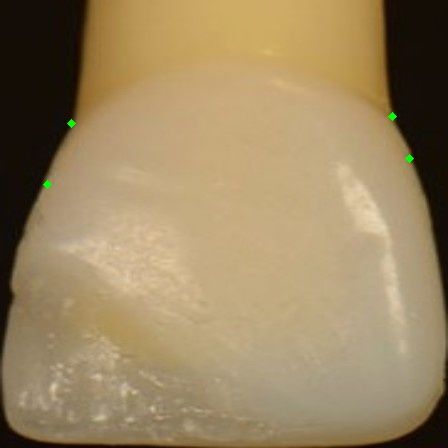coin_1: (71, 123, 91, 143)
coin_2: (47, 184, 67, 204)
coin_3: (392, 116, 412, 136)
coin_4: (409, 158, 429, 178)
